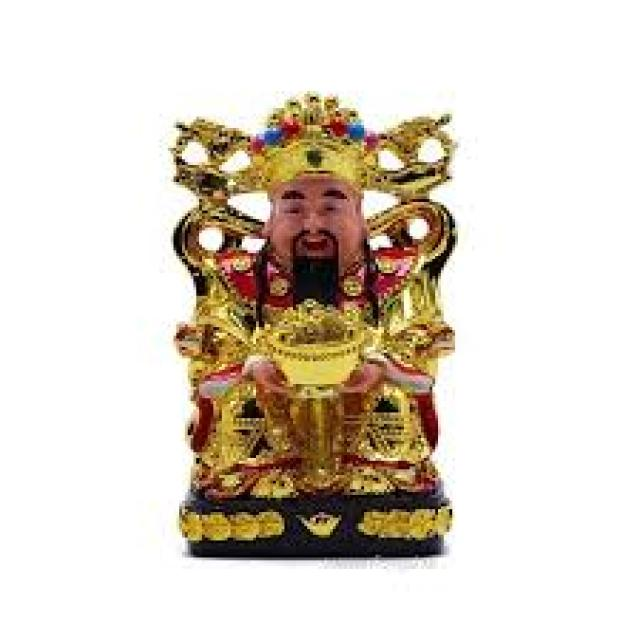Cai shen: (167, 90, 457, 501)
